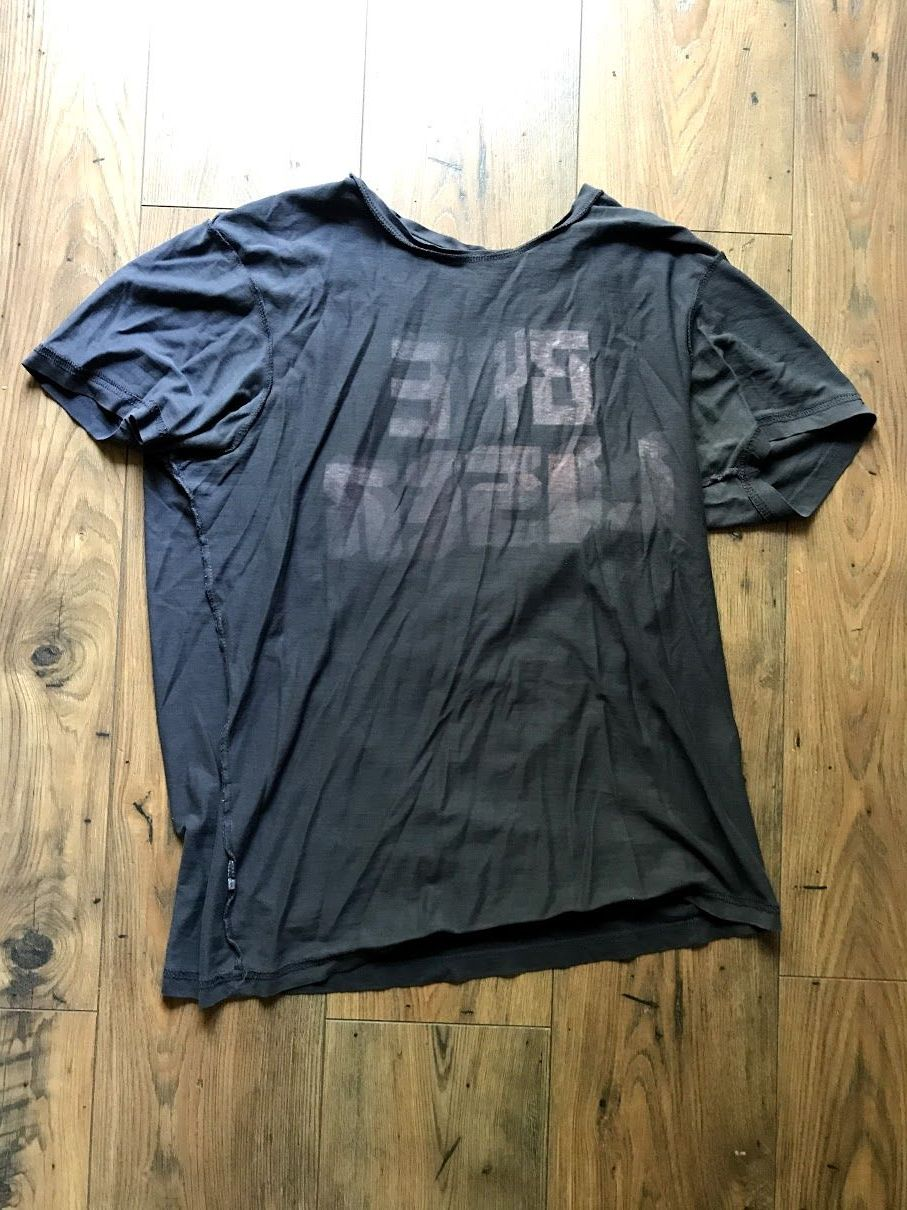clothes: (18, 161, 871, 986)
